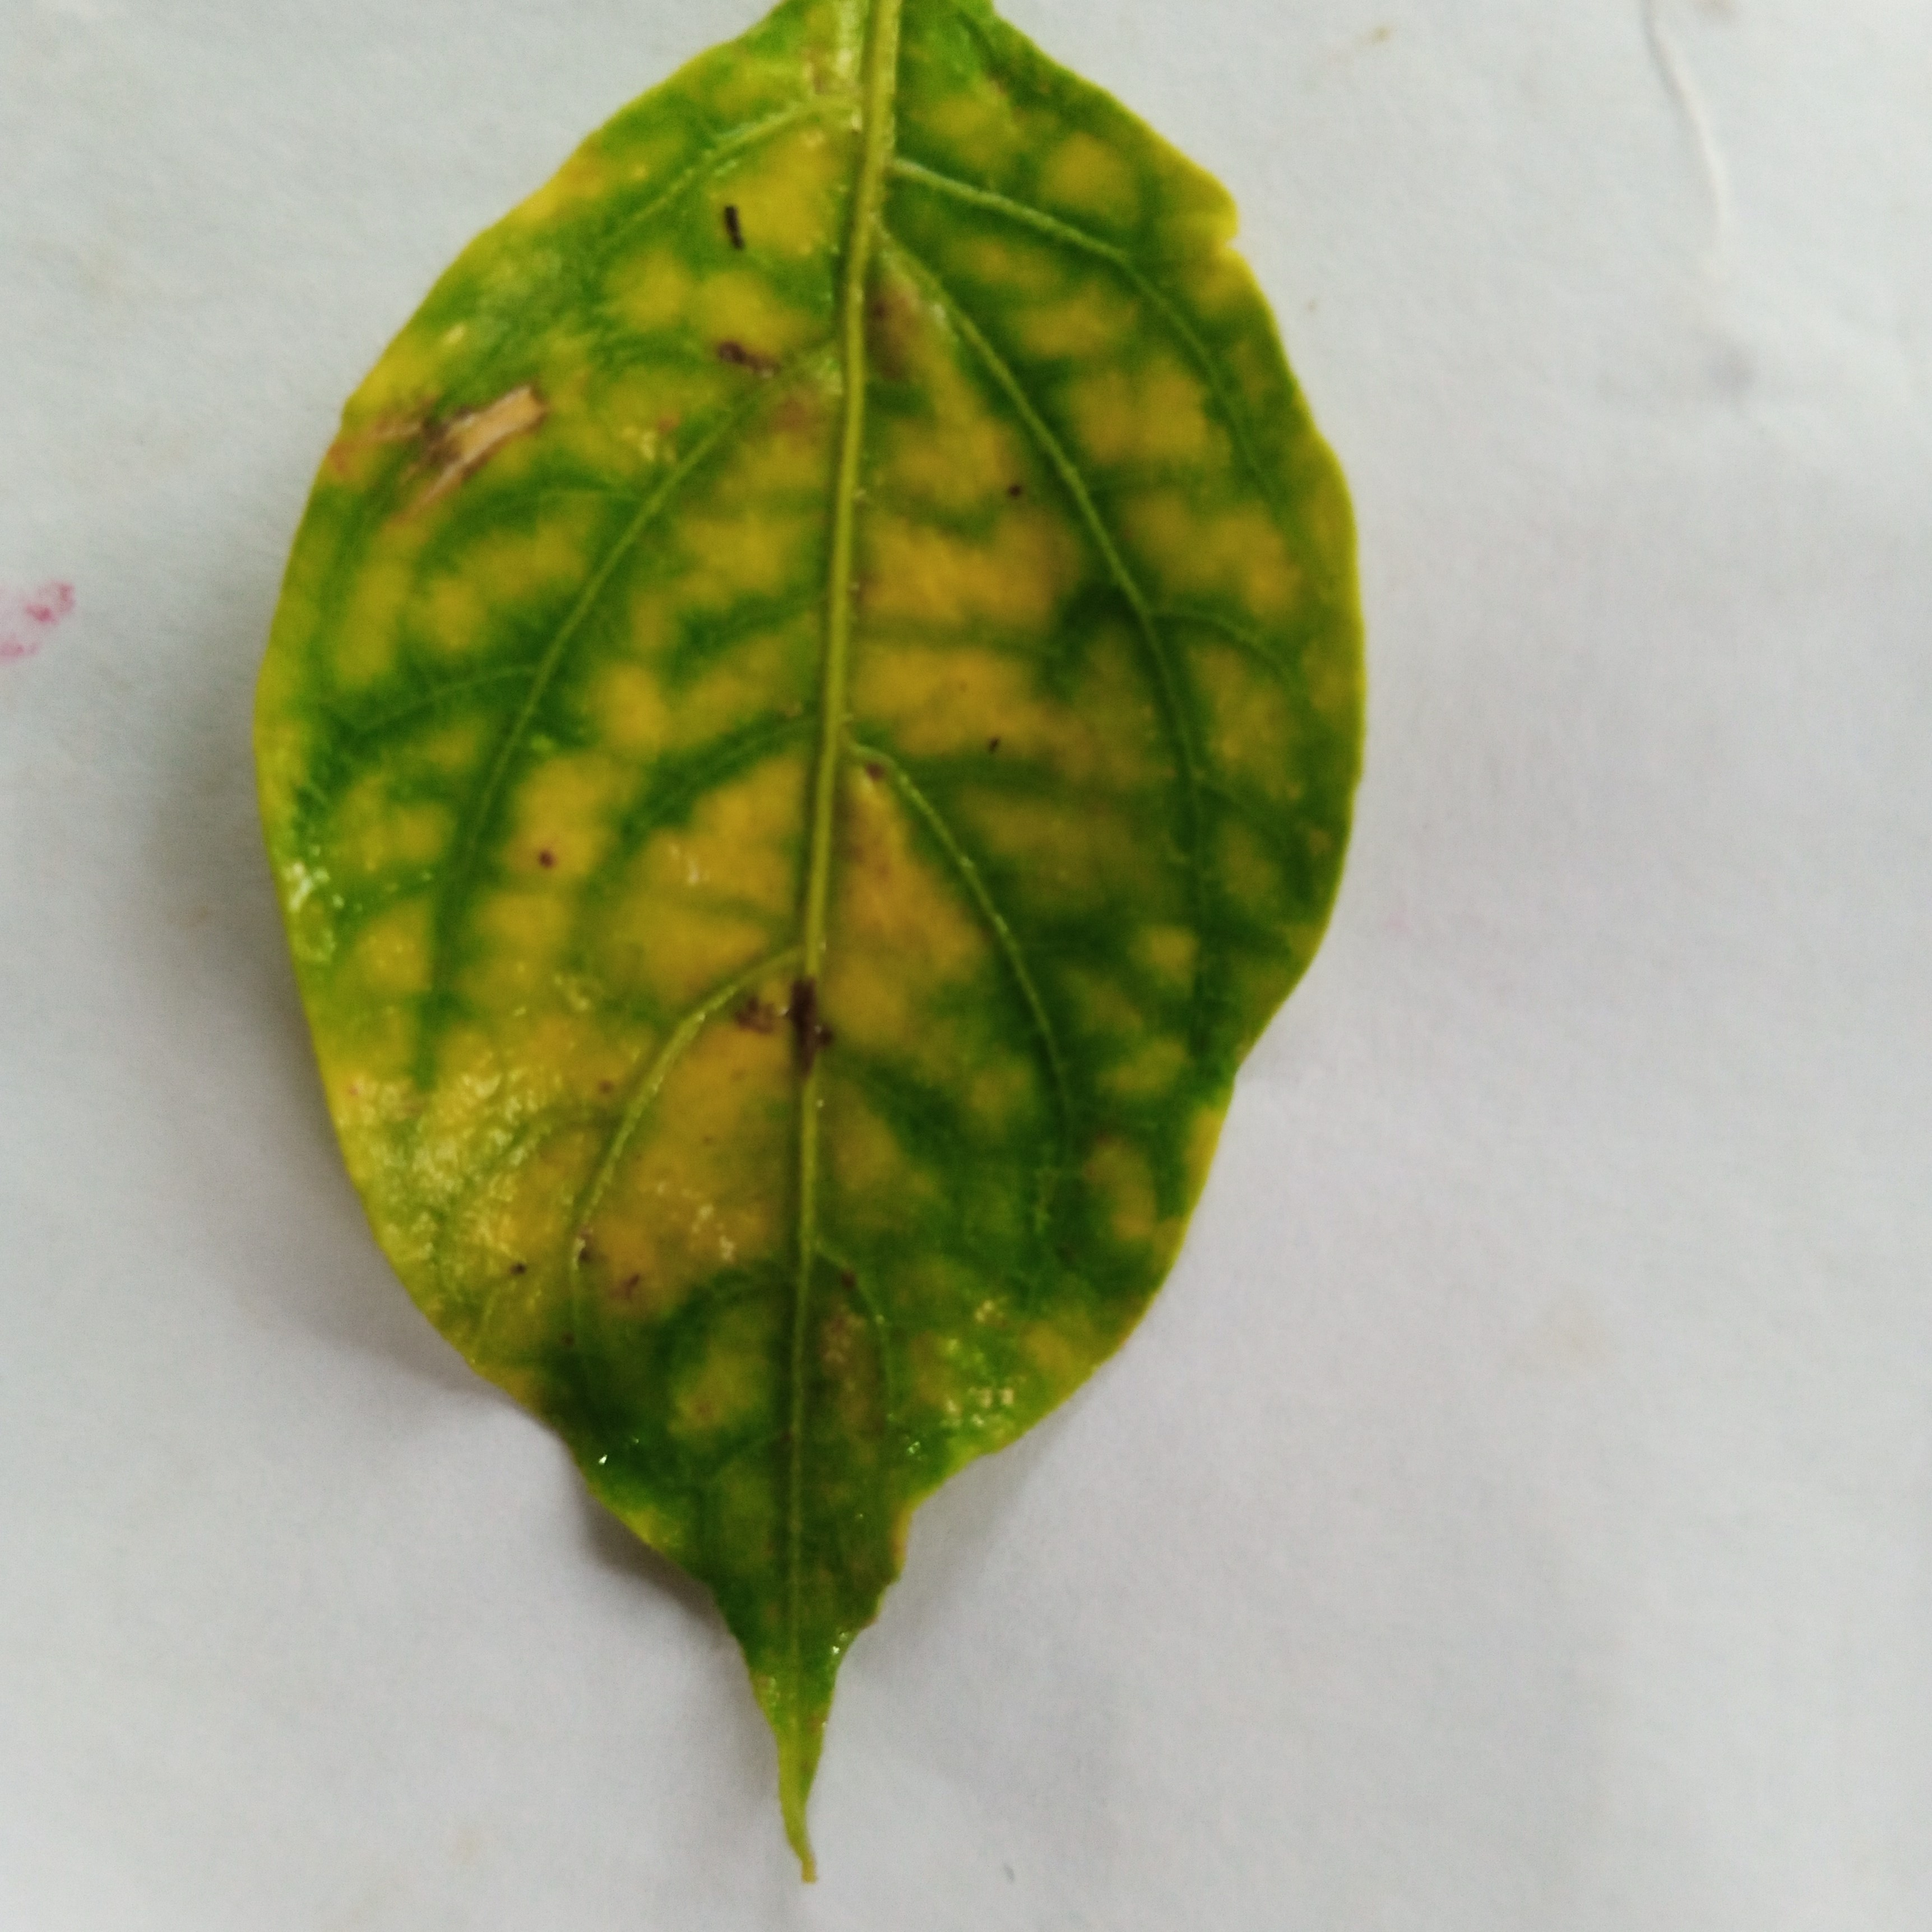Leaf: (207, 2, 1440, 1909)
